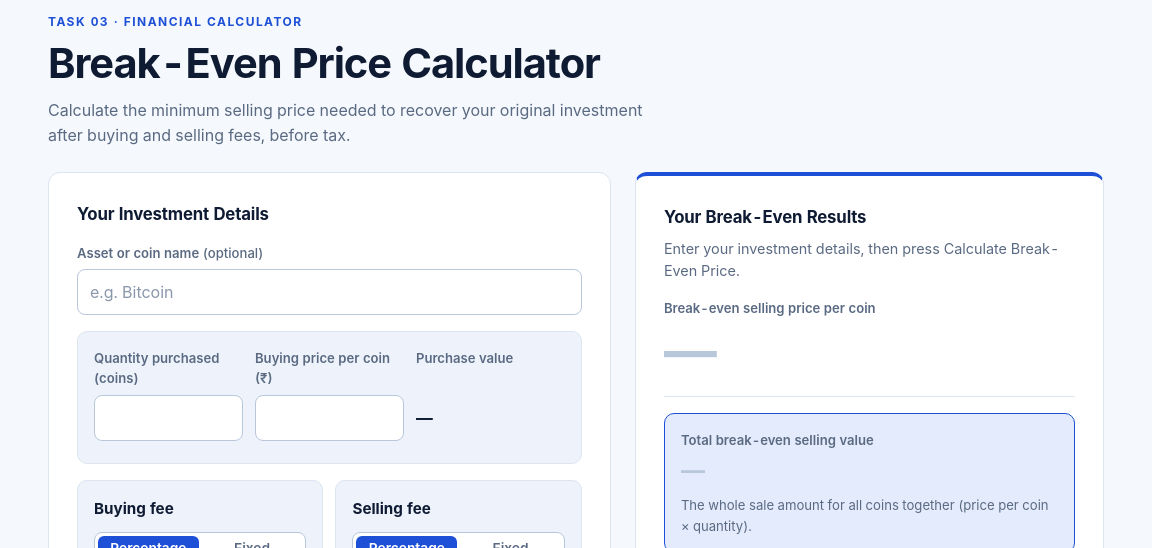
Test: stale results and reset › hides the old result when a fee type changes
The image size is (1152, 548).
Type "5" into the field labelled "Quantity purchased (coins)" at (168, 418), box [94,395,243,441]
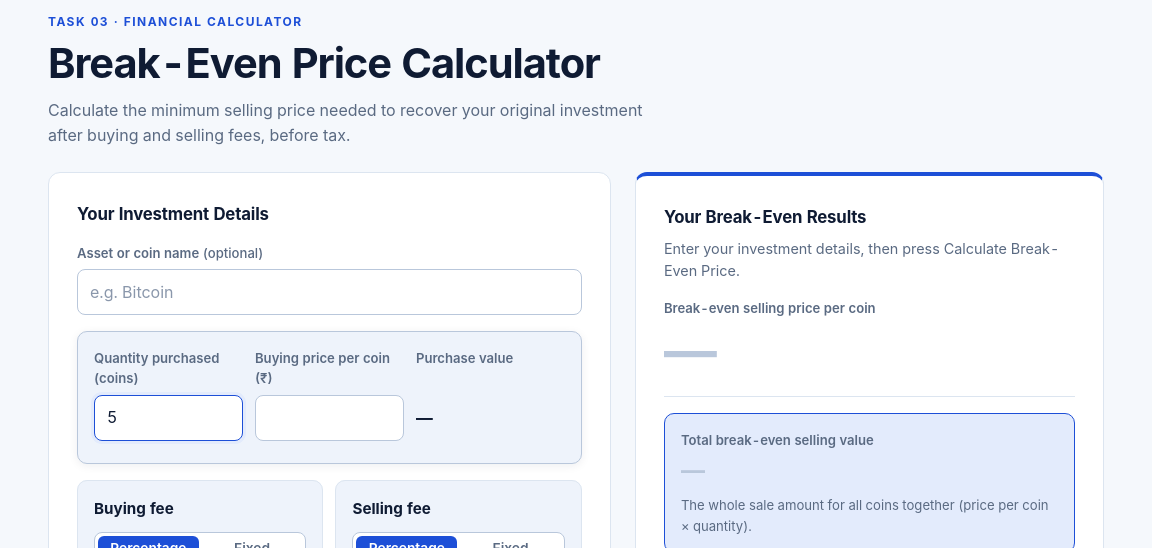
Type "100" into the field labelled "Buying price per coin (₹)" at (330, 418), box [255,395,404,441]
(page scrolled)
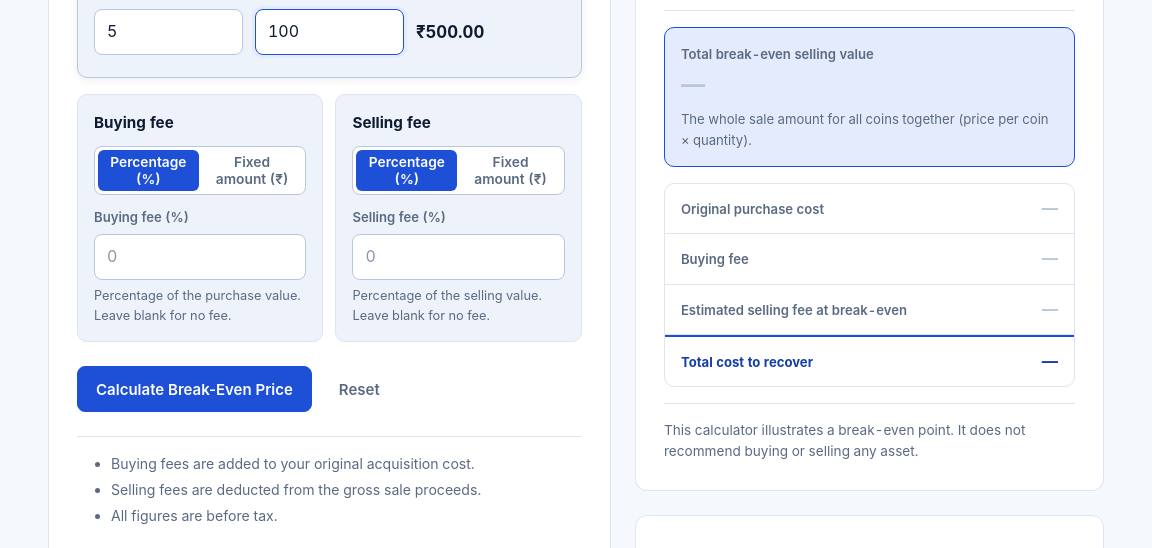
Type "1" into the field labelled "Selling fee (%)" at (459, 257), box [352,234,565,280]
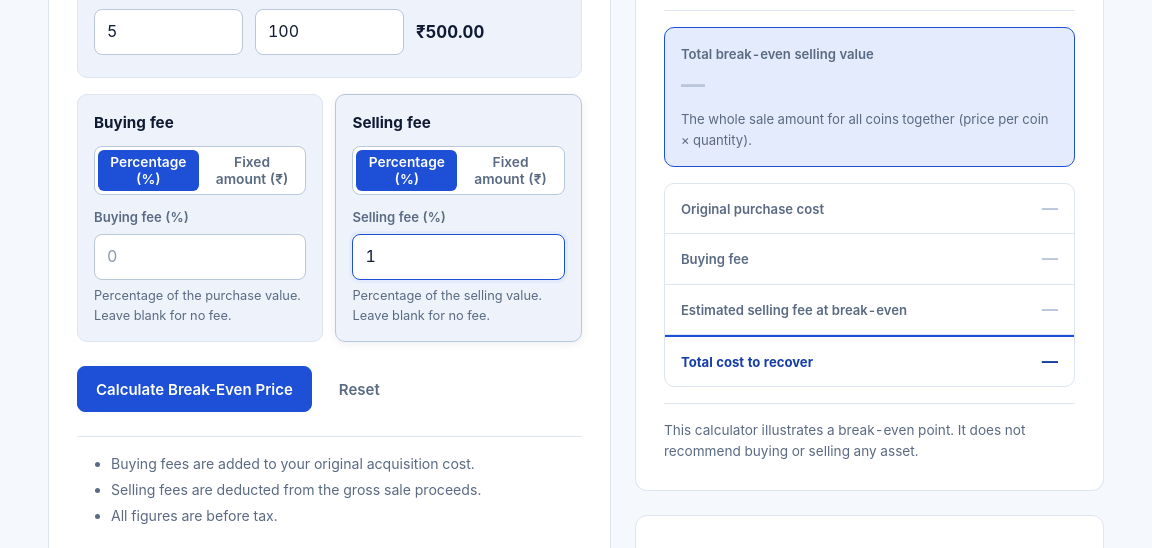
Click the button "Calculate Break-Even Price" at (194, 389), box [77,366,312,412]
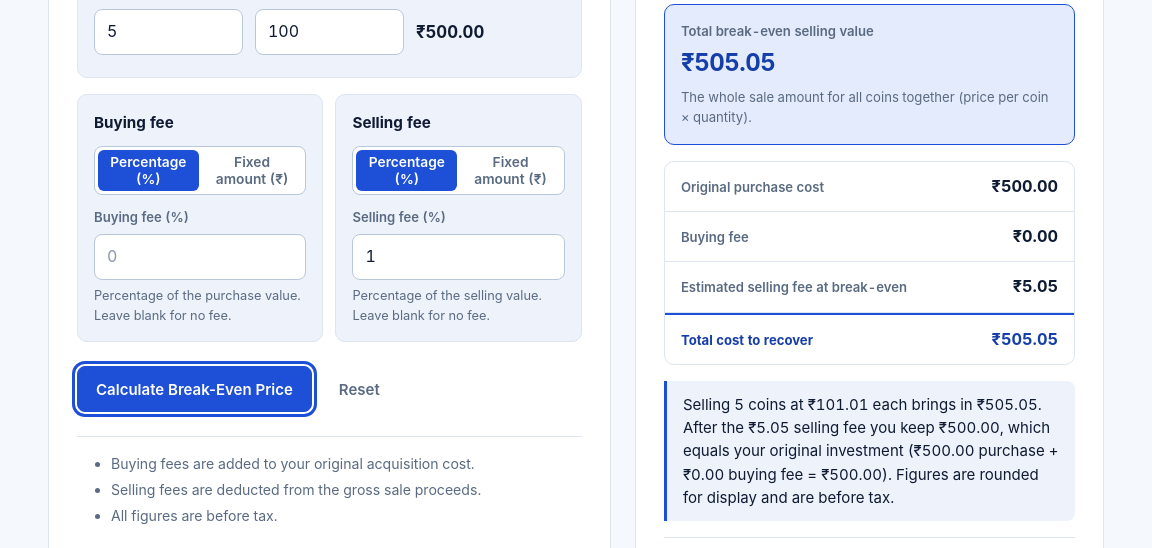
Click the 2nd radio button labelled "Fixed amount (₹)" at (511, 171), box [474,154,547,187]
(page scrolled)
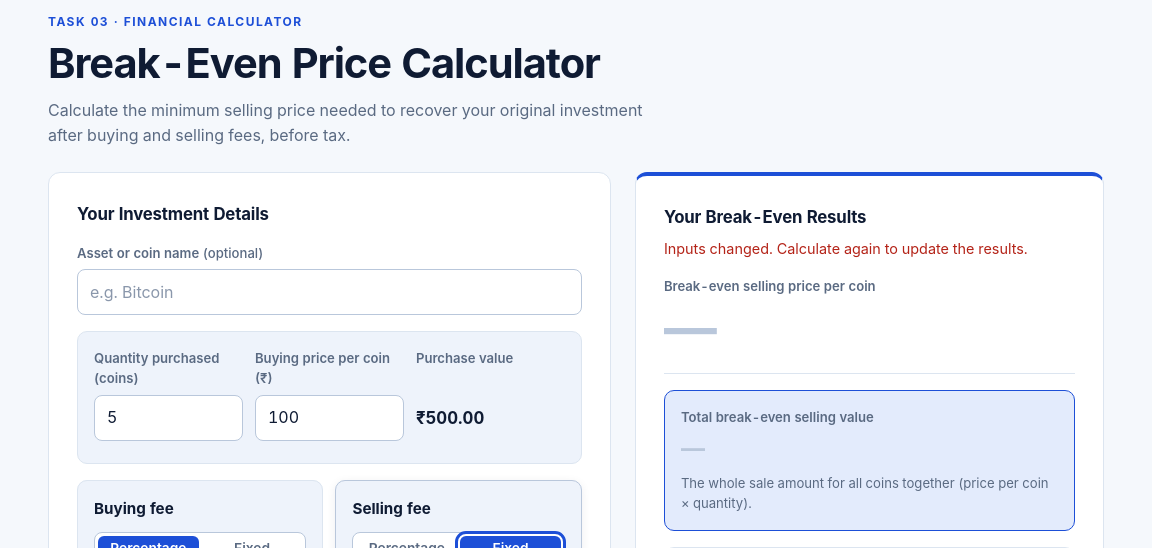
Check: the text "Inputs changed. Calculate again to update the results." is shown, box [664,238,1075,260]
